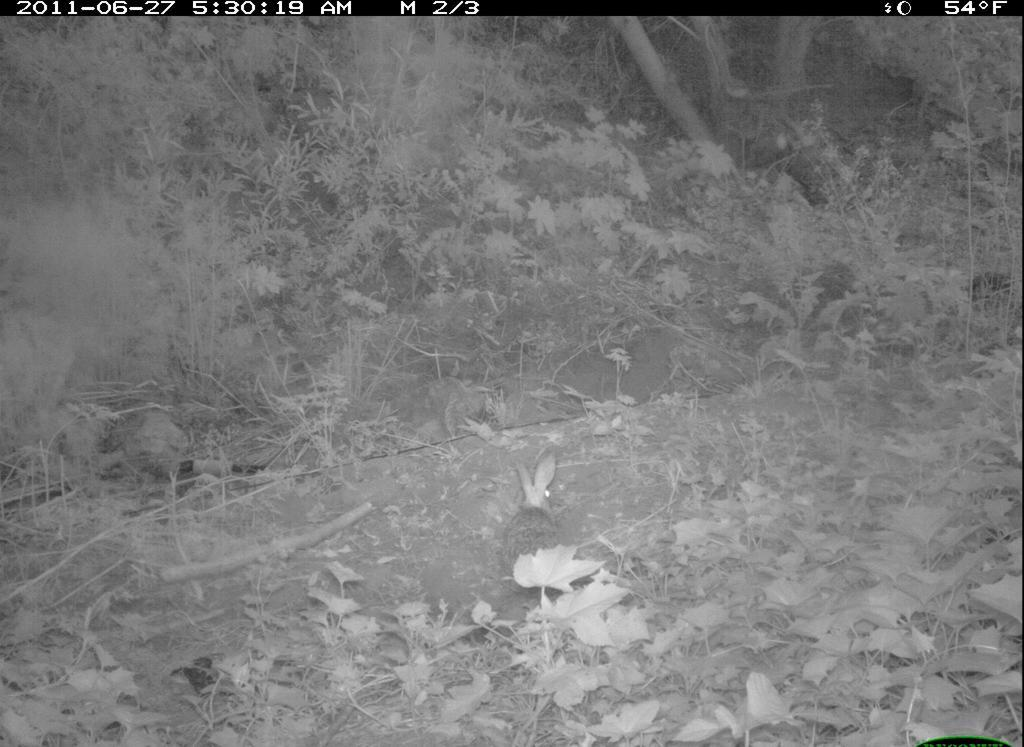rabbit: (489, 452, 570, 605)
